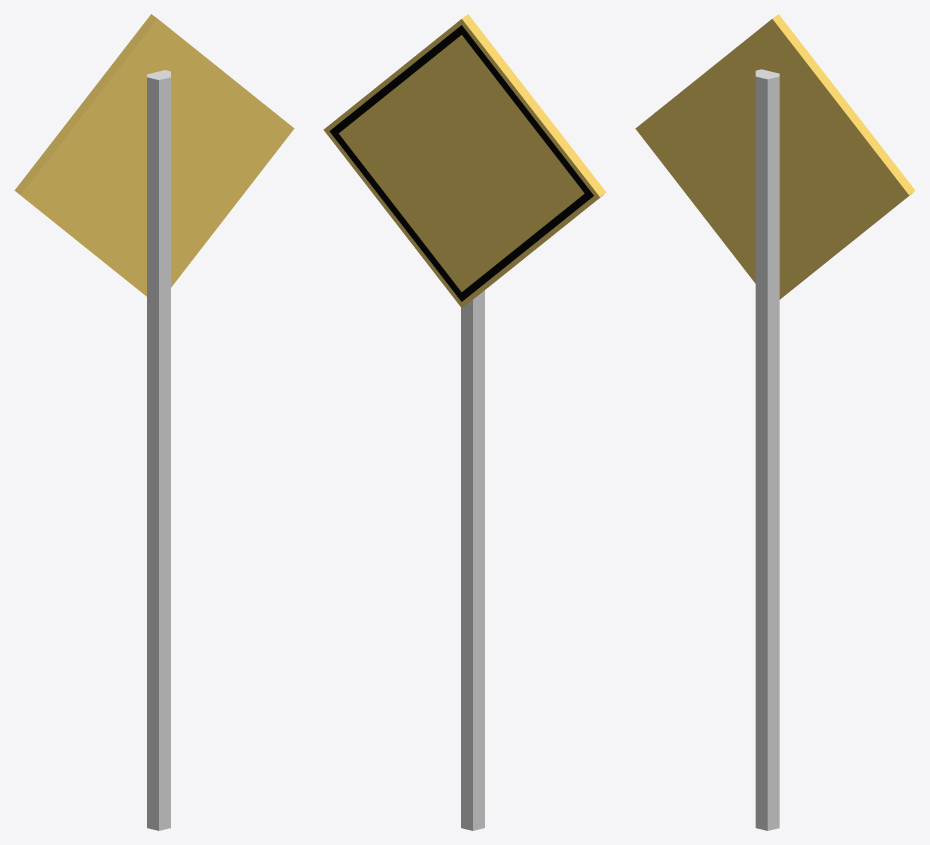
The model's file is sign.fbx.
The picture shows the model from 3 angles, left to right: view 1: azimuth 30°, elevation 25°; view 2: azimuth 150°, elevation 25°; view 3: azimuth 330°, elevation 25°; orthographic projection.
Parts seen in each view (by area): view 1: sign1; view 2: sign1; view 3: sign1.
Part boxes in pixels (x1,y1,x2,y2): sign1: [14, 14, 294, 830]; sign1: [323, 14, 606, 830]; sign1: [635, 14, 915, 830].
Size of the model in its own units: 116 by 326 by 11.25.
Materials: 1 (1 with a texture image).
